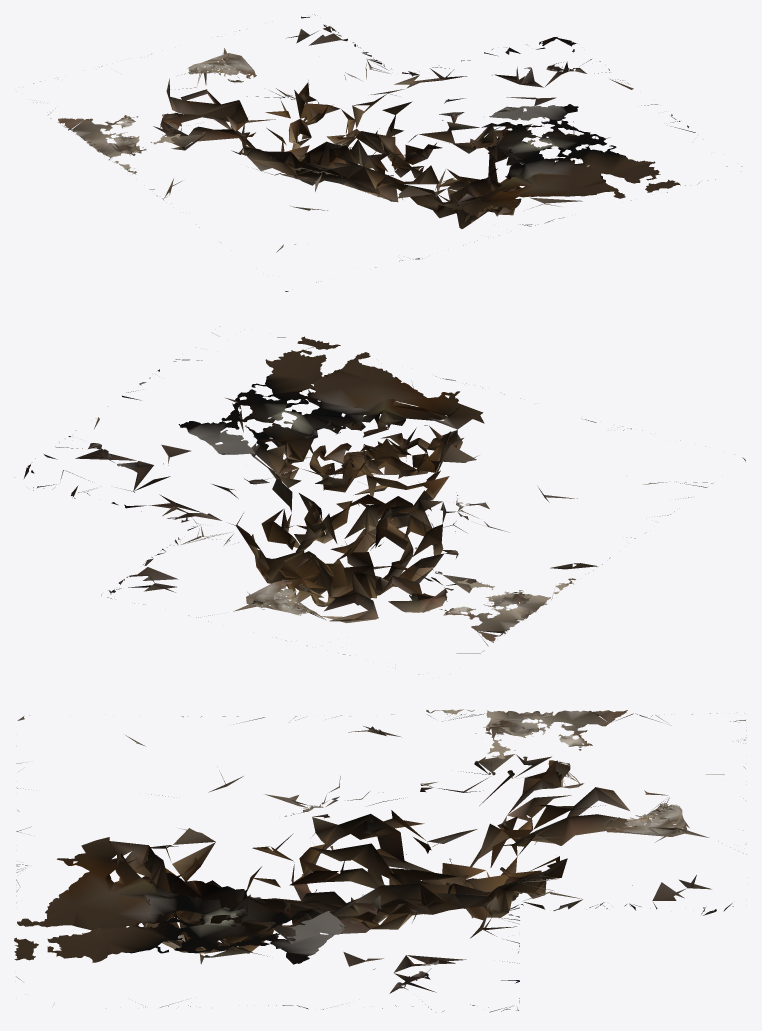
3 renders of one model, top to bottom at view 1: azimuth 30°, elevation 25°; view 2: azimuth 150°, elevation 25°; view 3: azimuth 270°, elevation 25°, orthographic. The views are drawn at different scales.
Parts seen in each view (by area): view 1: kette; view 2: kette; view 3: kette.
Boxes of the visible parts, x1=… form: kette: x1=33, y1=14, x2=741, y2=291; kette: x1=24, y1=336, x2=745, y2=674; kette: x1=14, y1=709, x2=746, y2=1012.
Bounding box in the file's own units: 0.6058 × 0.0806 × 0.62.
